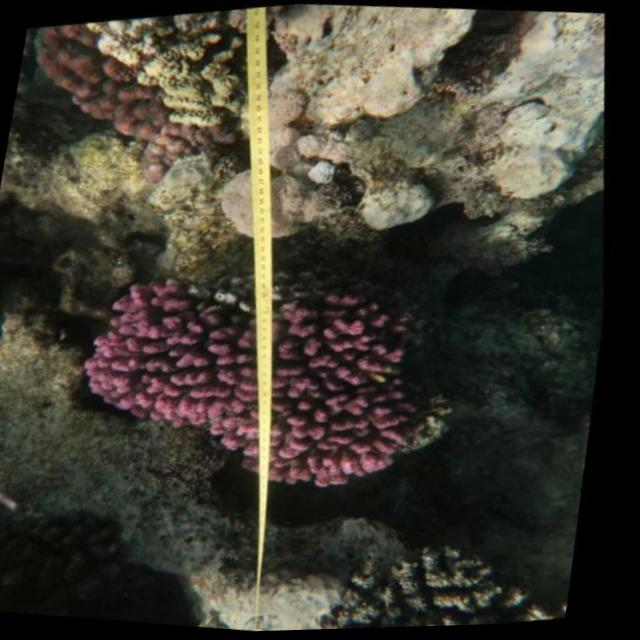Dead Coral: (322, 530, 566, 632)
Healthy Coral: (49, 216, 459, 541), (35, 0, 250, 158)
